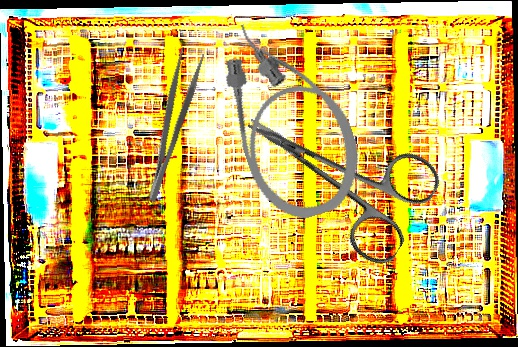Cannula: (206, 2, 374, 231)
Dressing Forceps: (132, 46, 208, 204)
Iris Scissors: (220, 69, 448, 272)
